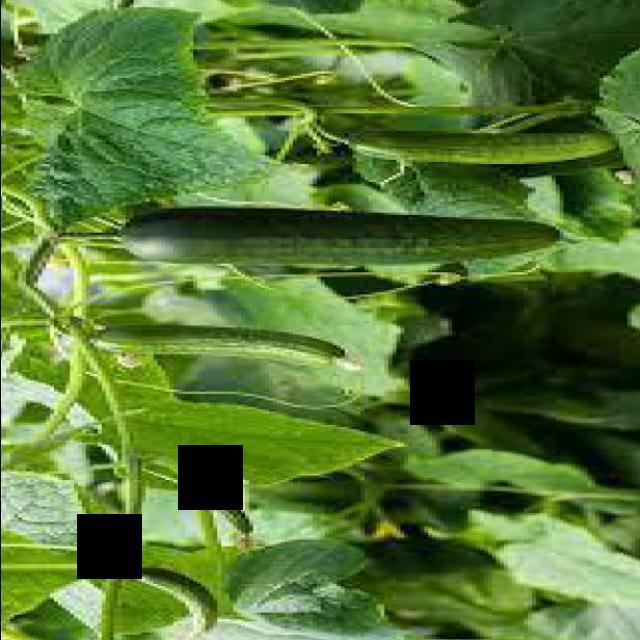cucumber: (105, 210, 562, 258), (85, 323, 343, 363), (344, 129, 610, 162), (116, 564, 228, 637)
